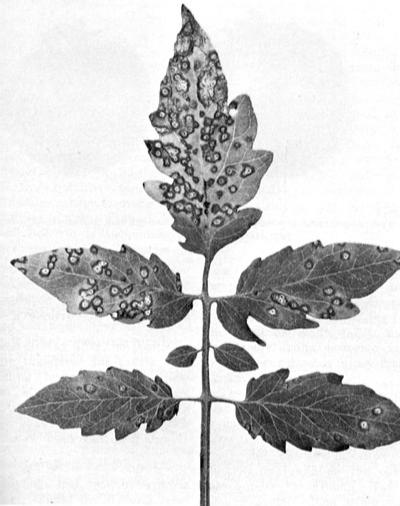Tomato Septoria leaf spot: (138, 5, 271, 255), (215, 227, 395, 343), (6, 359, 176, 460), (230, 364, 396, 464), (8, 243, 197, 328)
